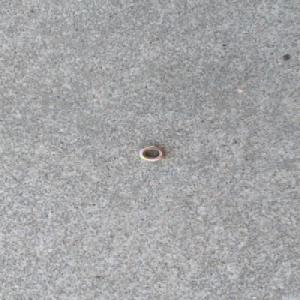Nut: (138, 145, 166, 162)
